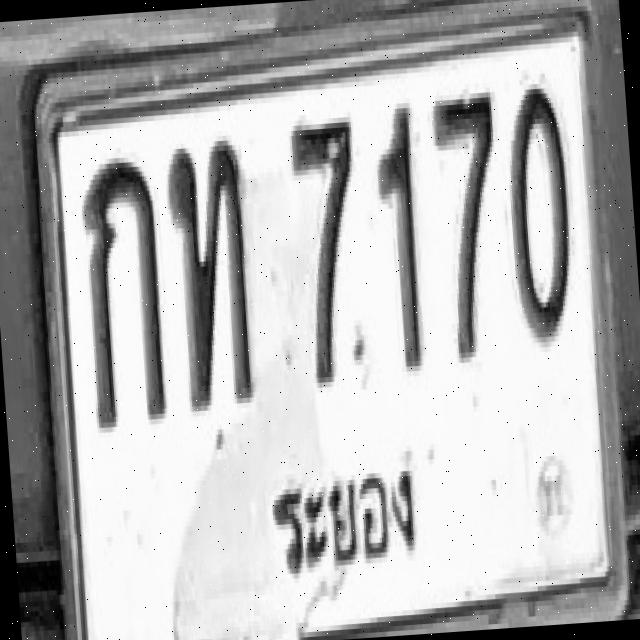0: (501, 82, 577, 343)
1: (370, 102, 428, 372)
10GorGai: (76, 156, 168, 428)
32ThorThaHan: (164, 134, 258, 412)
7: (287, 114, 368, 386), (429, 86, 508, 364)
Ratchaburi: (70, 33, 259, 331)
Rayong: (263, 443, 428, 598)
